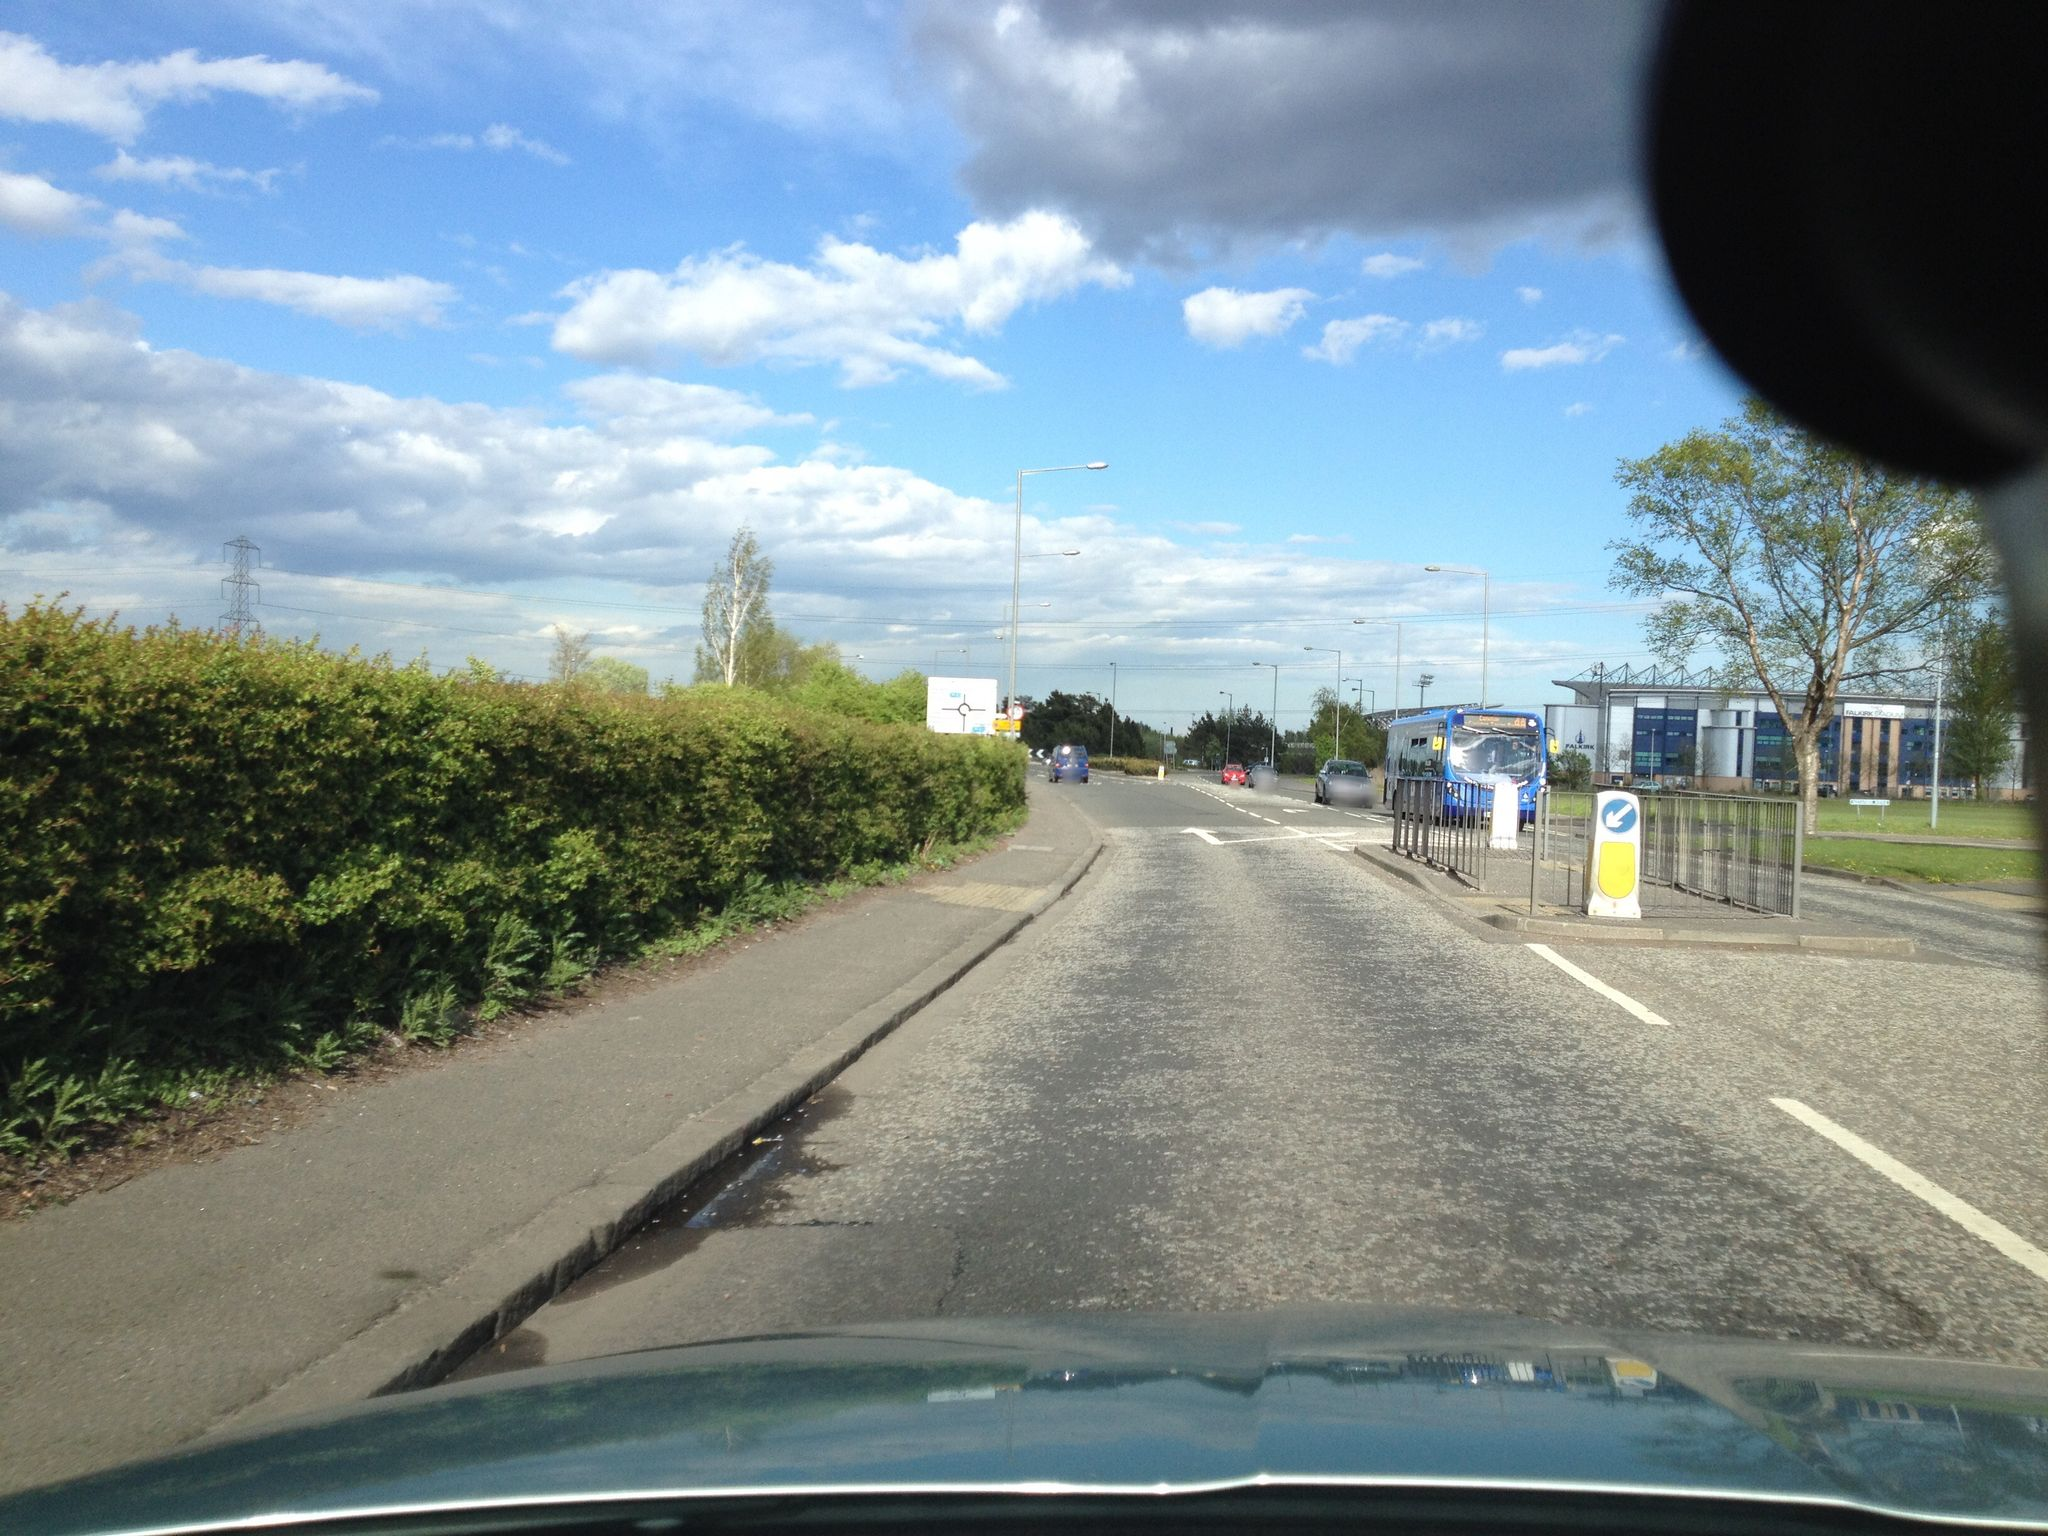bus: (1384, 708, 1559, 833)
car: (44, 1307, 2033, 1534), (1314, 758, 1376, 810), (1048, 744, 1089, 784), (1248, 765, 1279, 789), (1221, 763, 1247, 786)
